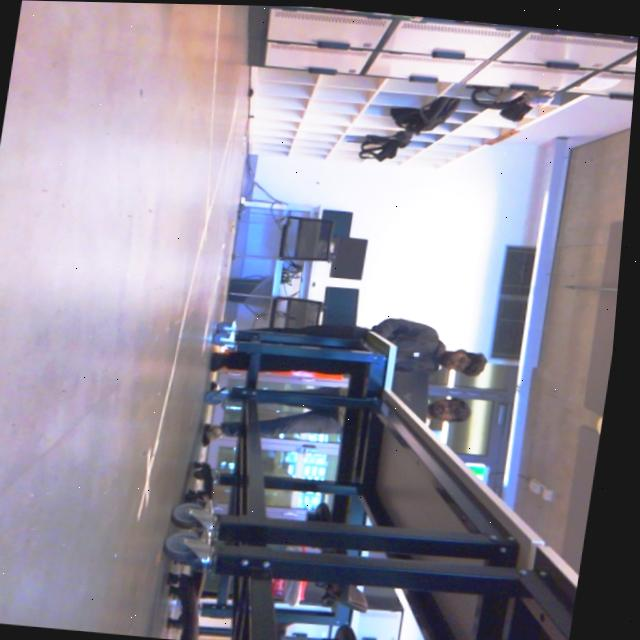greenpringles: (111, 2, 440, 42)
